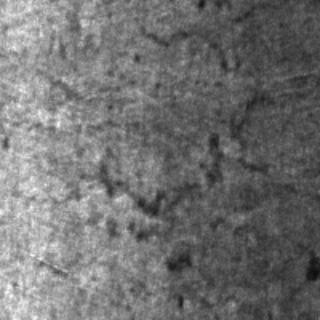crazing: (48, 21, 292, 213), (138, 160, 312, 314), (208, 2, 308, 110)
